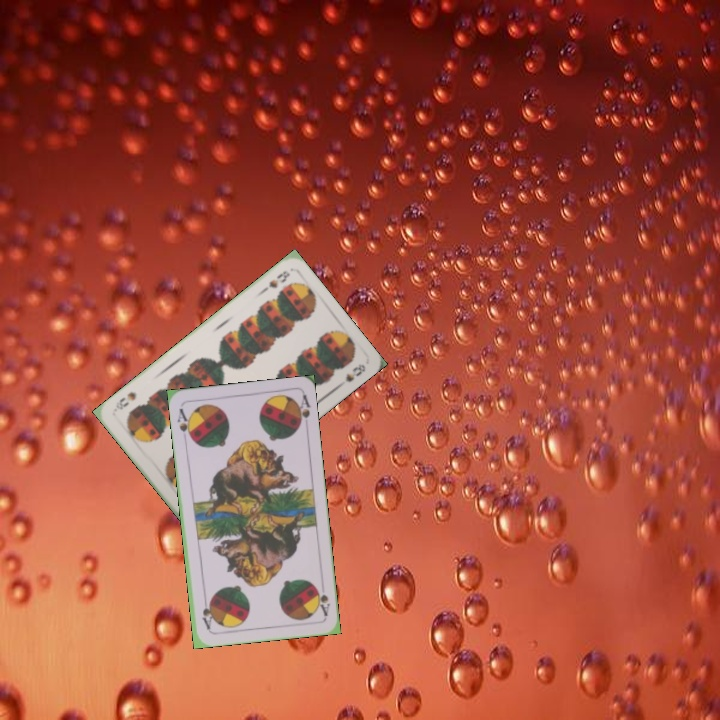S8: (257, 267, 293, 296)
SA: (312, 578, 333, 619), (173, 404, 195, 443)
